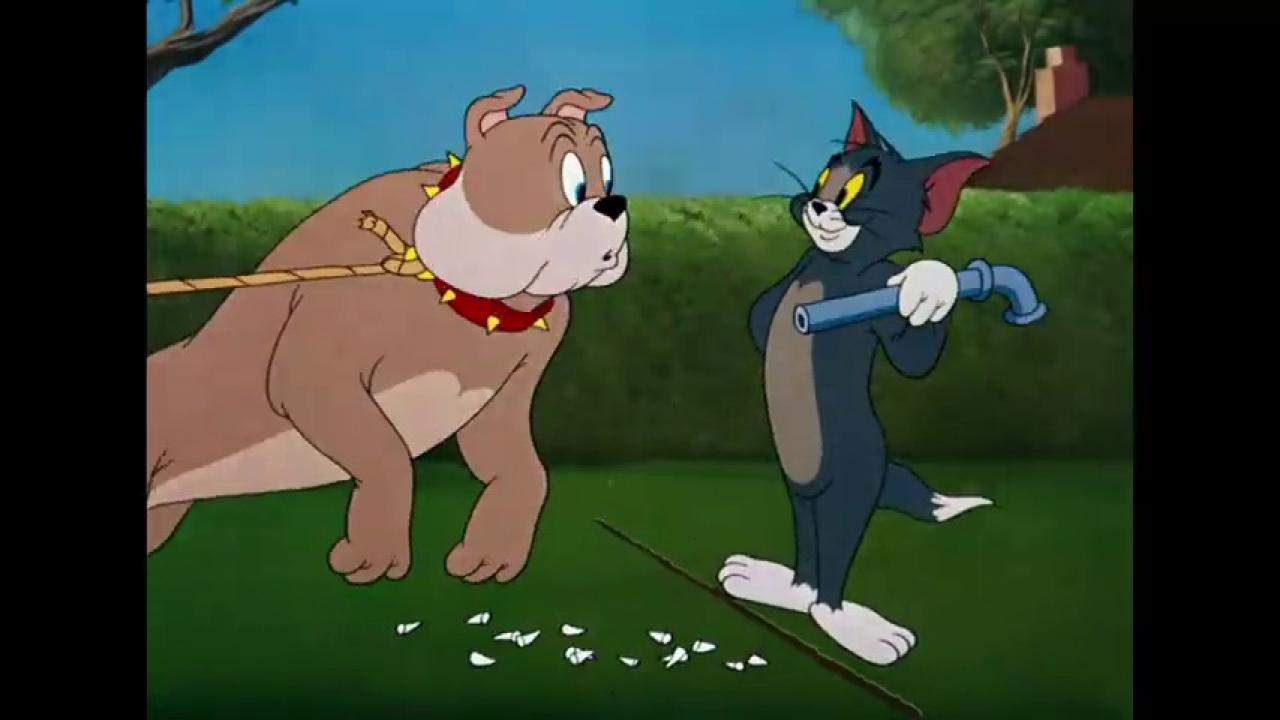Tom: (714, 97, 999, 668)
